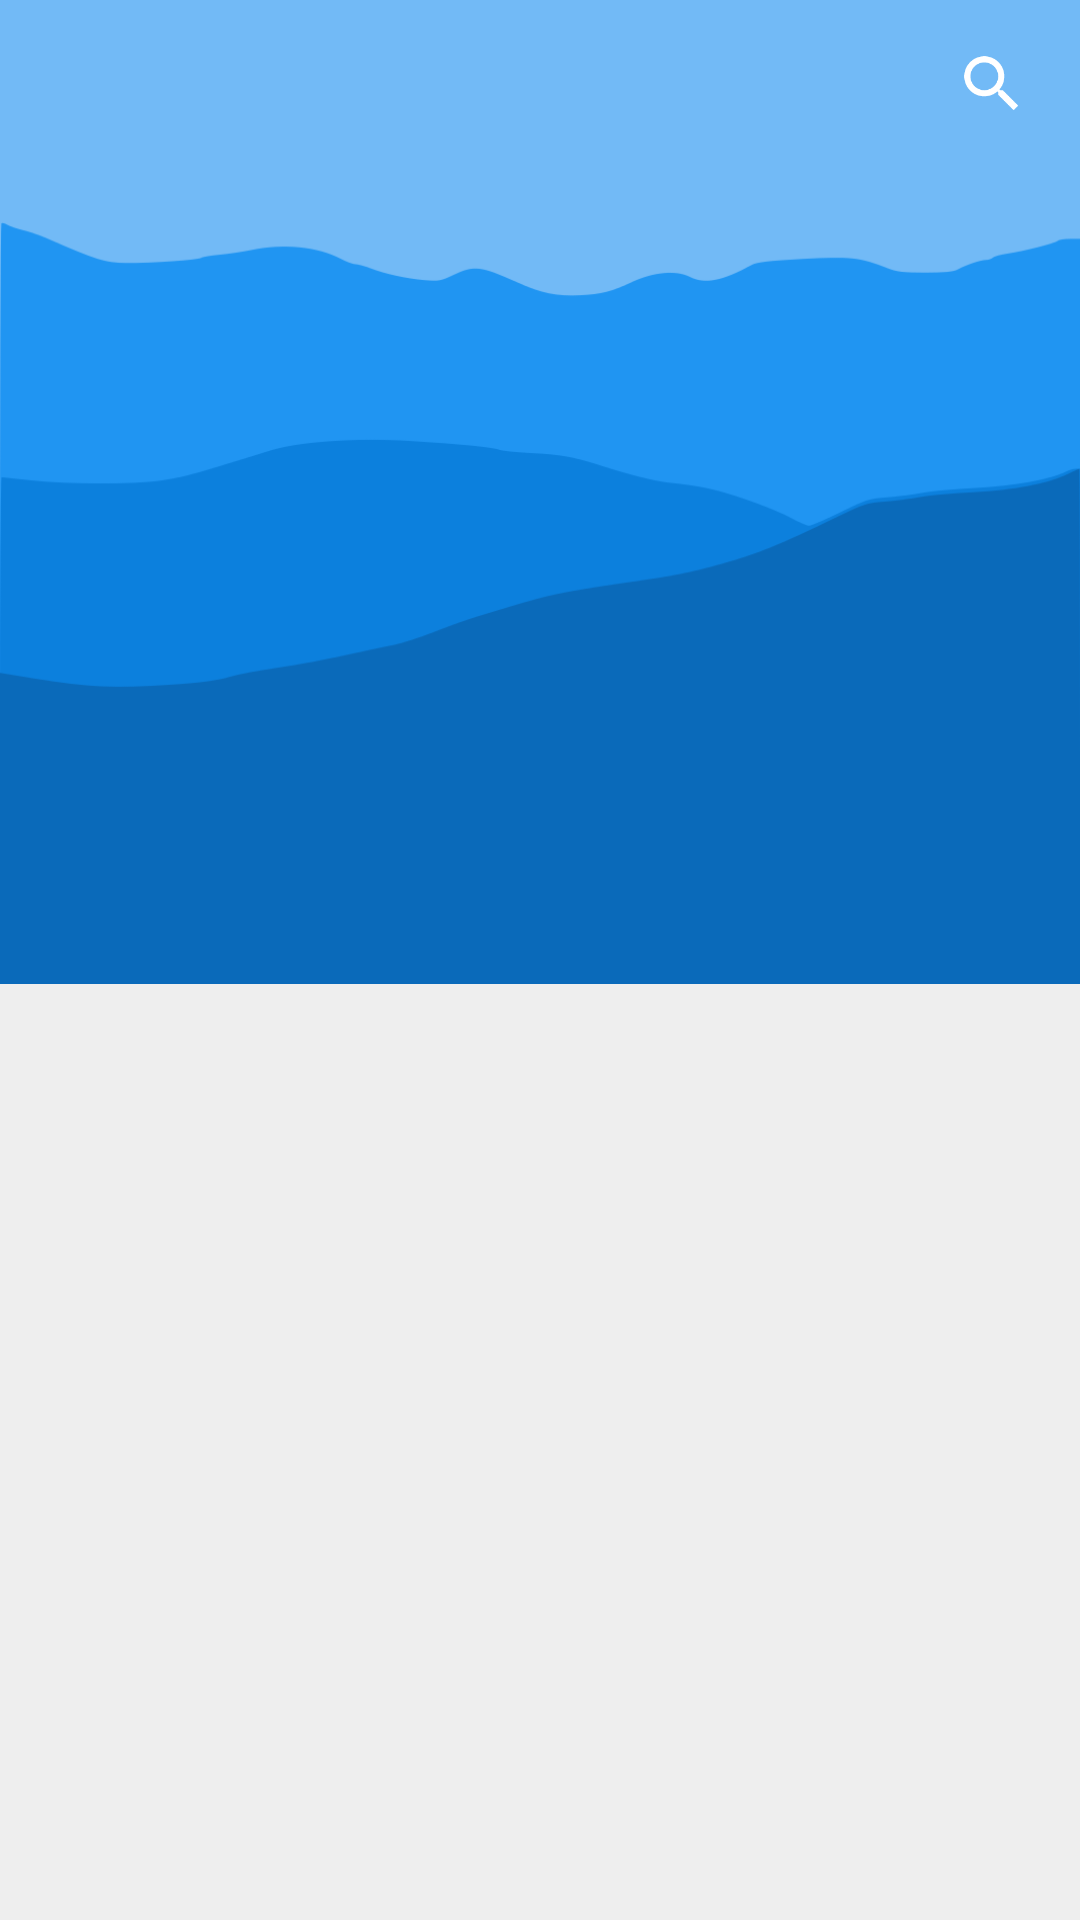

Where icons sit on this 1080x1920 app screen, as (x1, y1, x2, y2):
search: (964, 56, 1018, 110)
